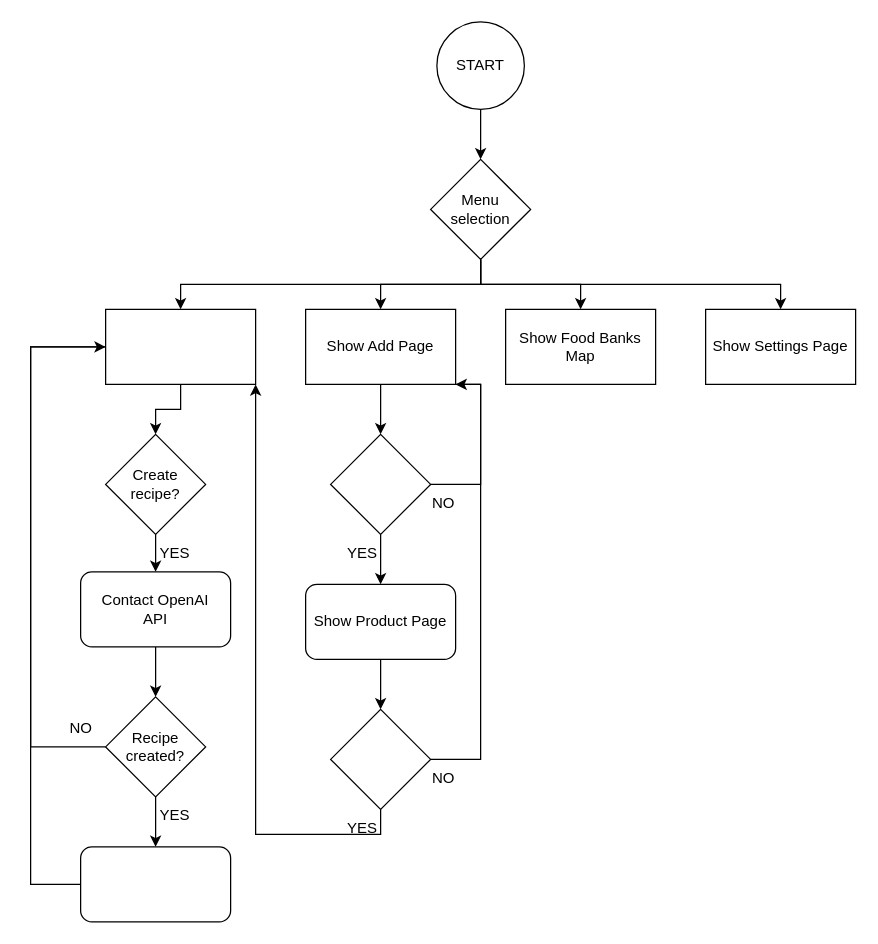
This 878x944 diagram has some shape labels left out. The box of each missing label's shape, as (x1, y1, x2, y2) in pixels:
Add product?: (329, 708, 431, 809)
Barcode detected?: (329, 433, 431, 534)
Show Fridge Page: (104, 308, 256, 384)
Show Recipe: (79, 846, 231, 922)
